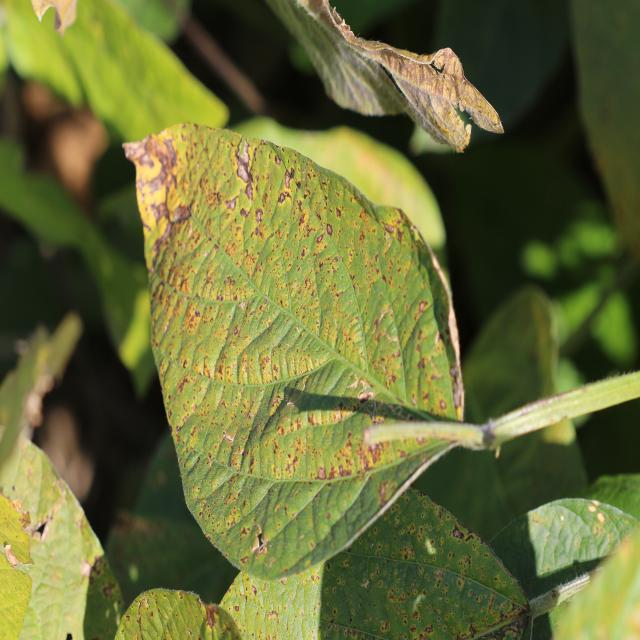Bacterial_Blight: (150, 229, 192, 299), (142, 148, 184, 188), (150, 195, 194, 224), (233, 136, 257, 188), (358, 441, 388, 472), (324, 452, 353, 481), (251, 199, 268, 242), (207, 186, 224, 211), (280, 182, 294, 211), (324, 215, 338, 242), (415, 294, 429, 318), (301, 169, 317, 187)
Soybean: (124, 123, 464, 579)
